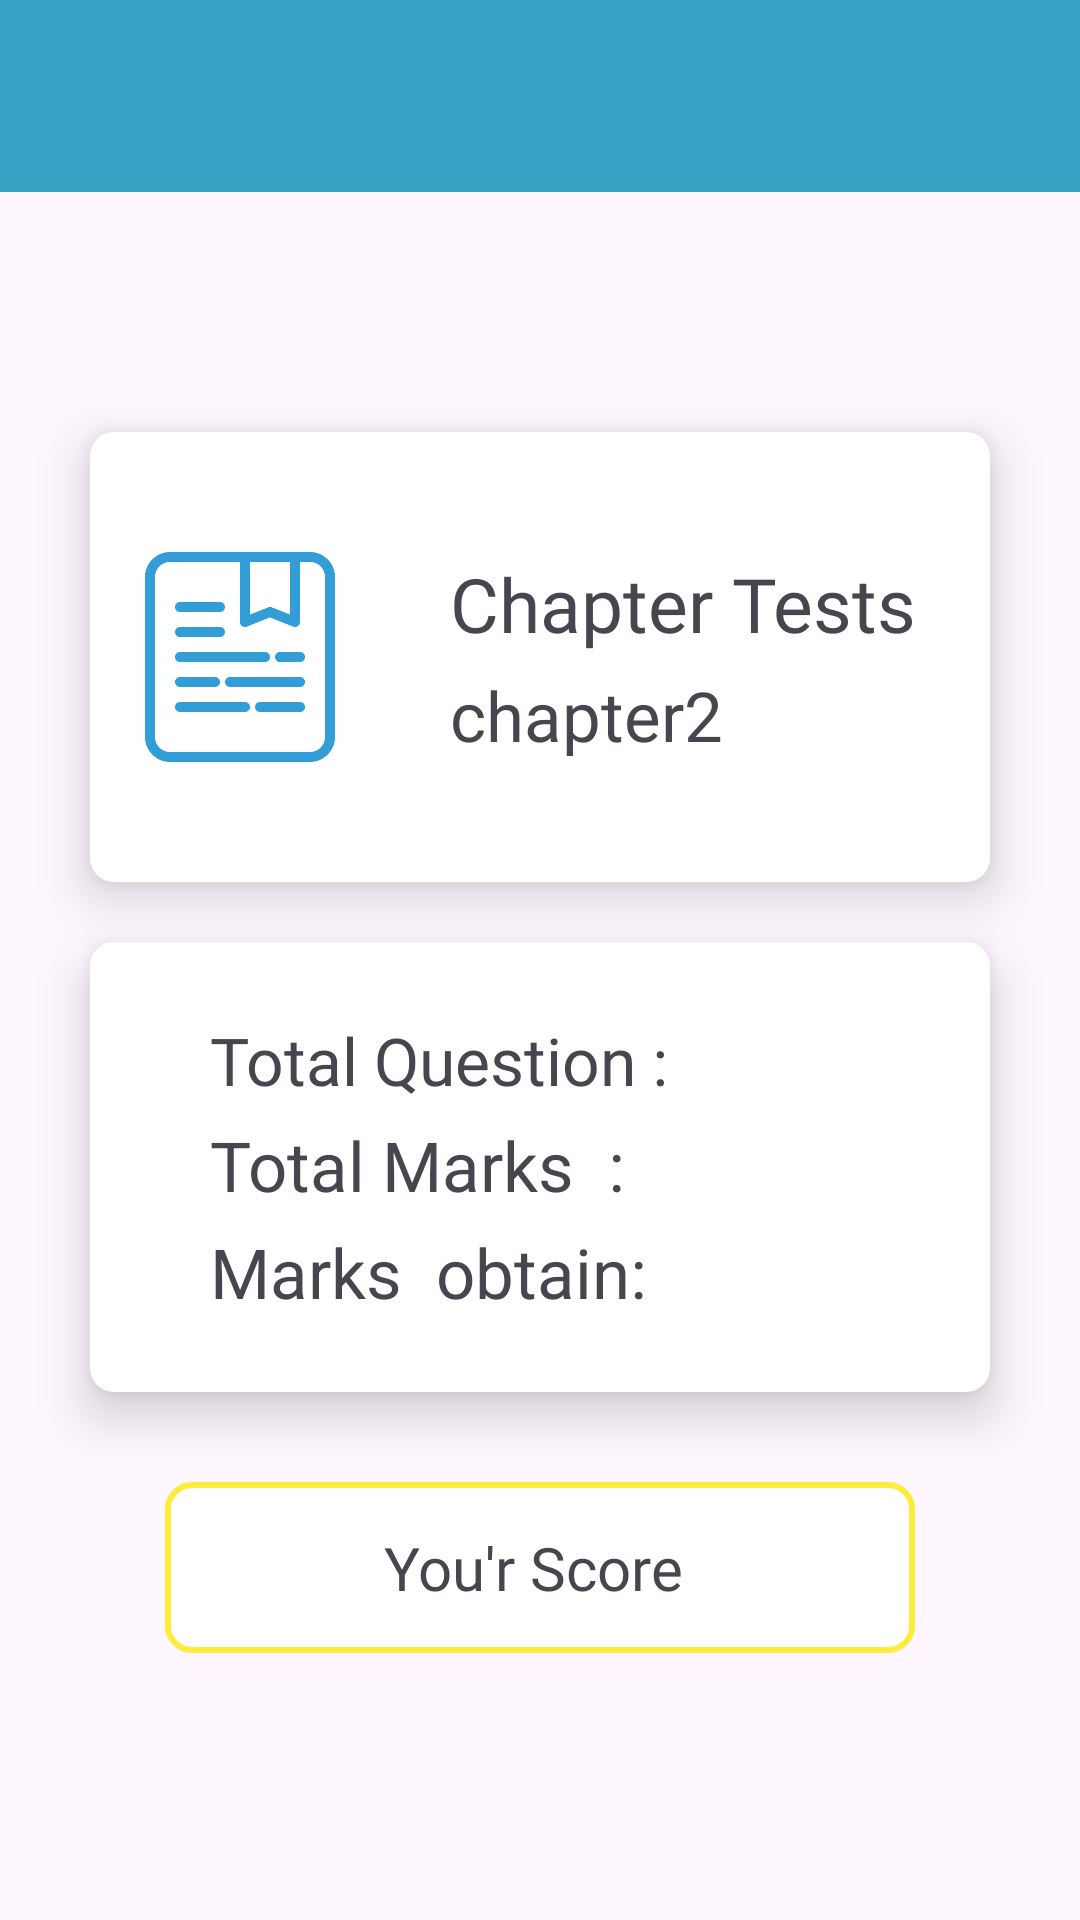

Point at icon controls on the screen. Image size 1080 × 1920, points as point (x, y).
bookmark: point (240, 657)
